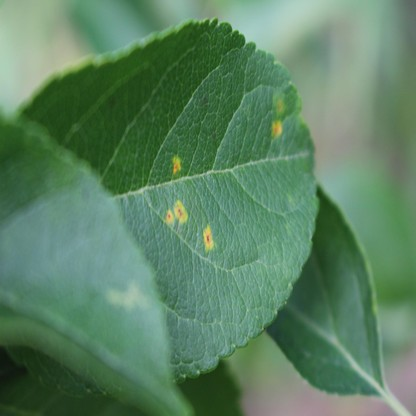rust: (166, 200, 187, 227), (203, 224, 214, 251), (171, 153, 182, 172), (272, 122, 281, 138), (276, 98, 283, 110)
